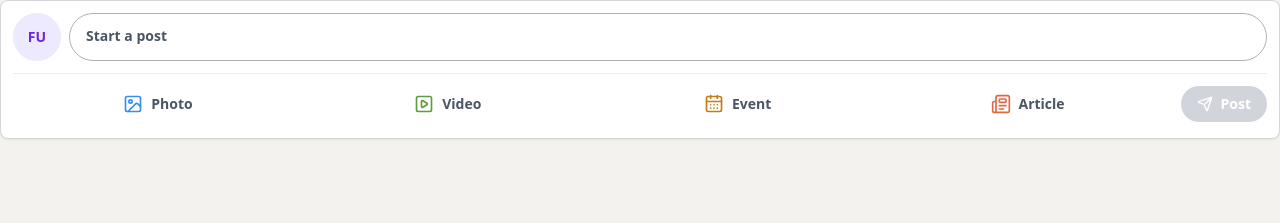
Test case: CreatePostCard › shows an error and keeps content when post creation fails
Type "Please try this later" into the text box with placeholder "Start a post" at (668, 37), box [69,13,1267,61]
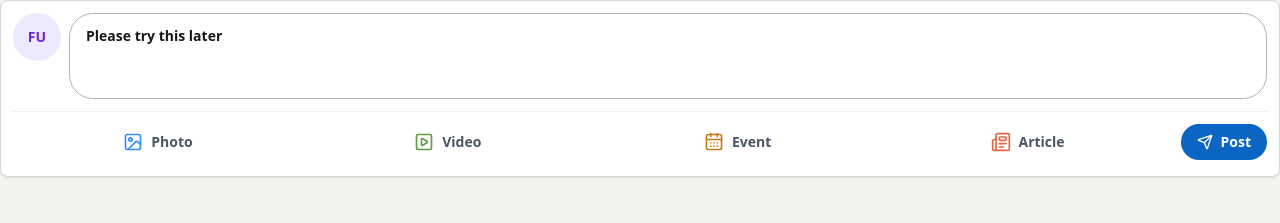
Click the button "Post" at (1224, 142), box [1180,124,1267,160]
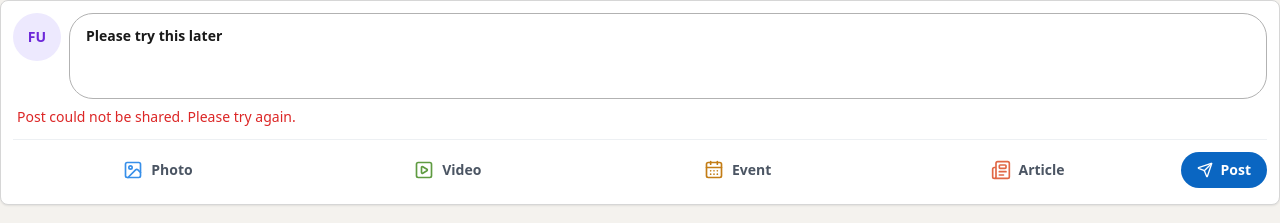
Result: the button "Post" is enabled at [1180,152,1267,188]
Result: the text "Post could not be shared. Please try again." is shown at [17,107,296,126]
